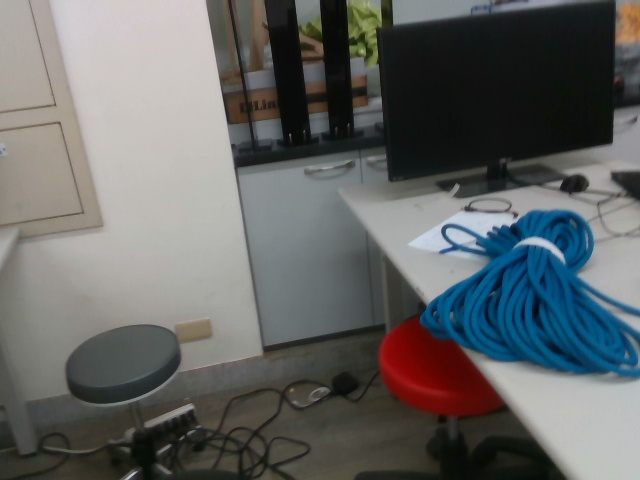rope: (418, 206, 640, 381)
